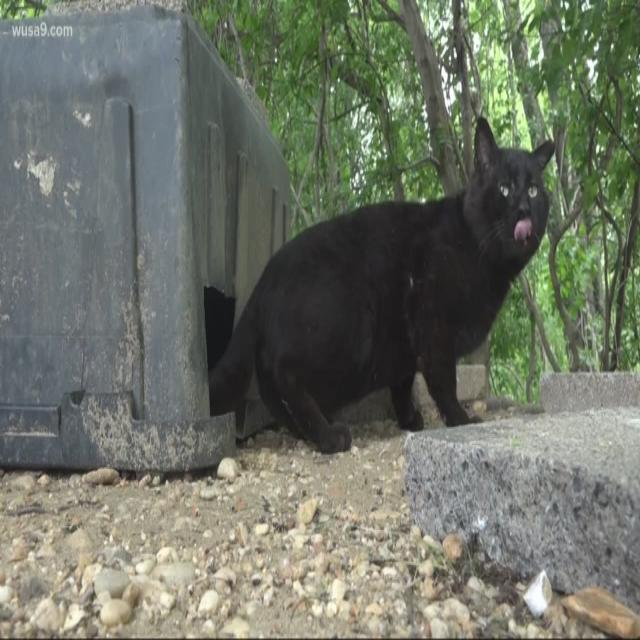cat: (209, 118, 554, 453)
